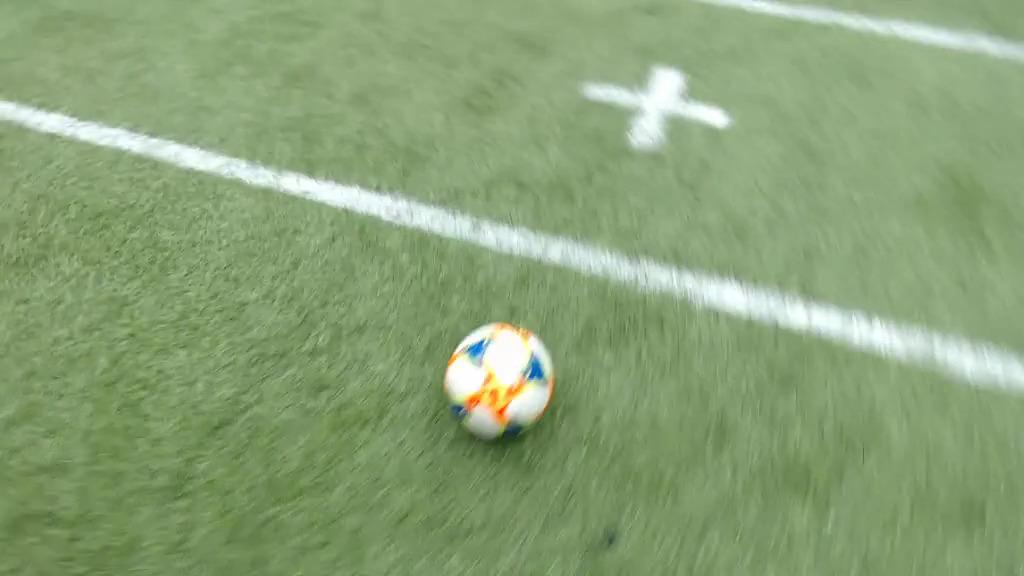ball: (445, 322, 553, 445)
